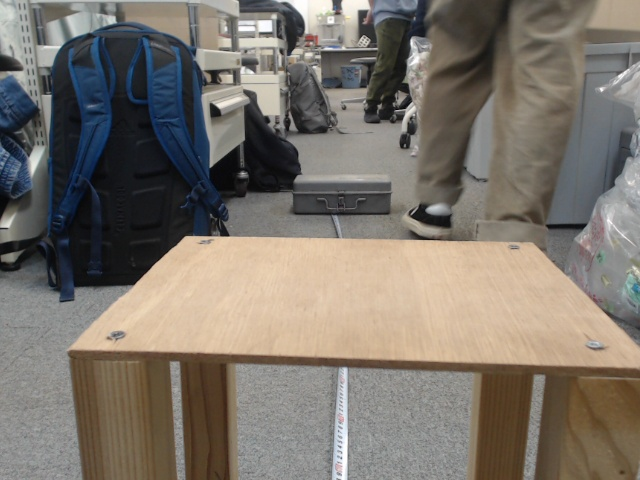desk: (278, 97, 519, 350)
